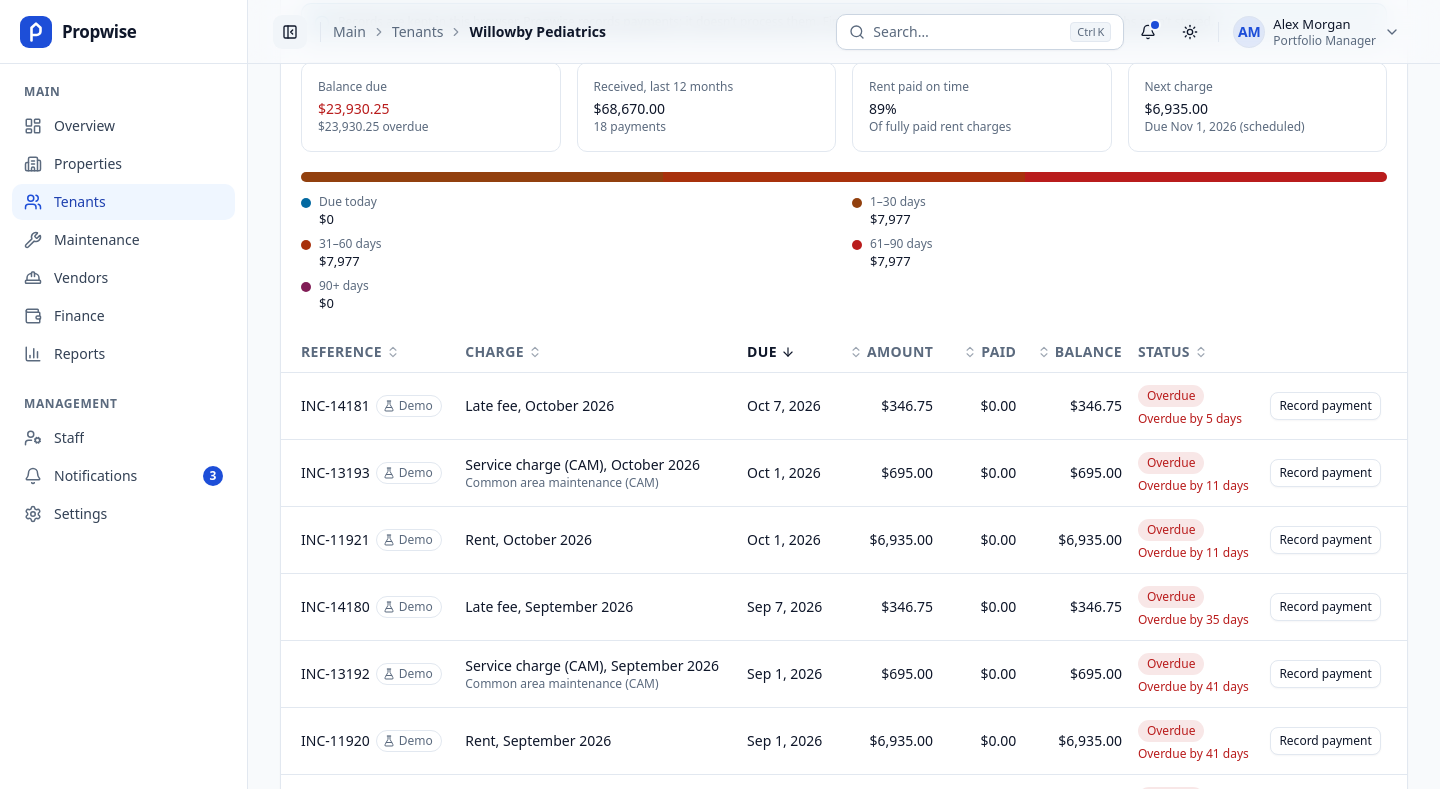
Scenario: tenant Payments tab › keeps the dialog open with the error when the save fails, and changes nothing
(page scrolled)
Step 1. Click the button with aria-label "Record payment for " → (1326, 406), box [1270,392,1381,420]
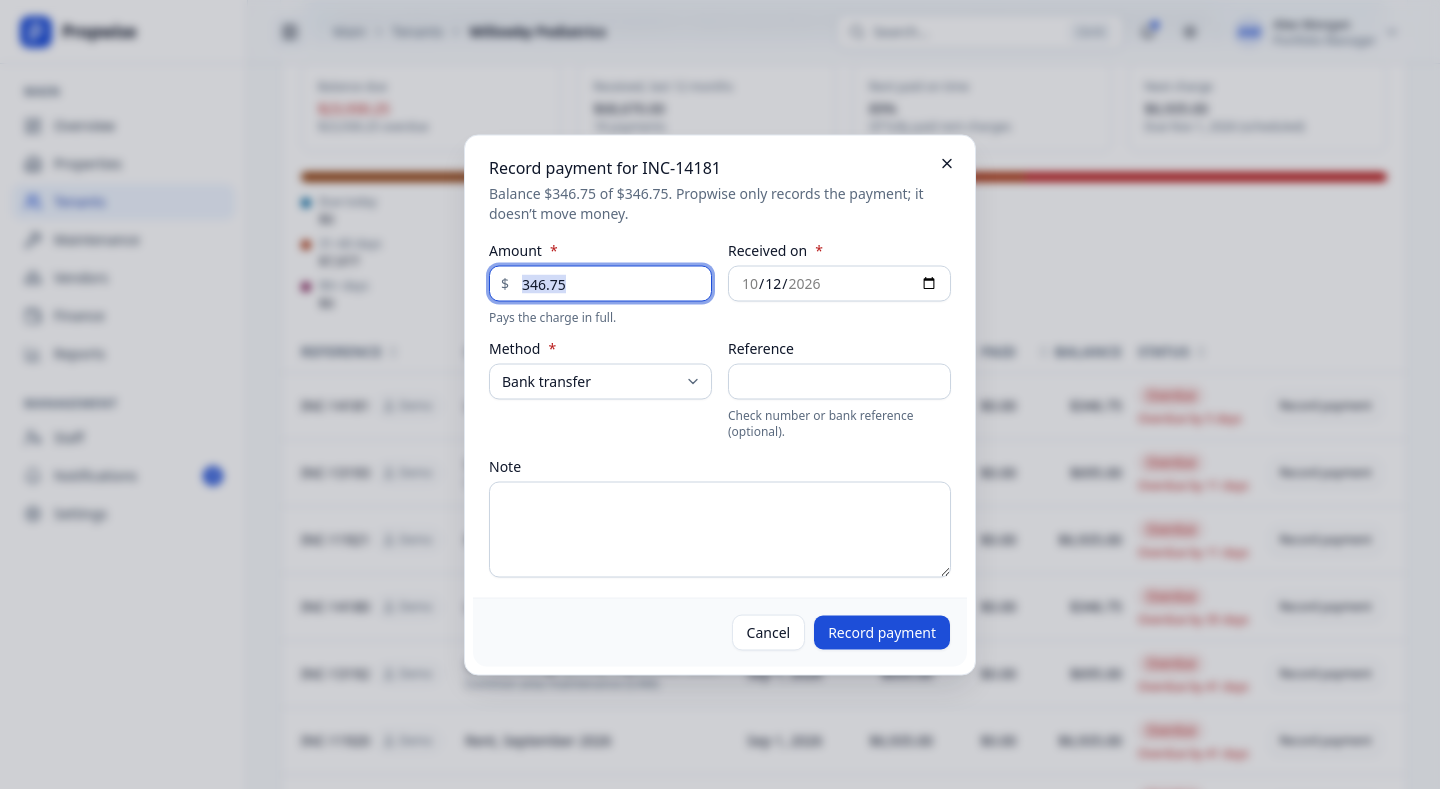
Step 2. Click the button "Record payment" → (882, 632), box [813,614,951,650]
(page scrolled)
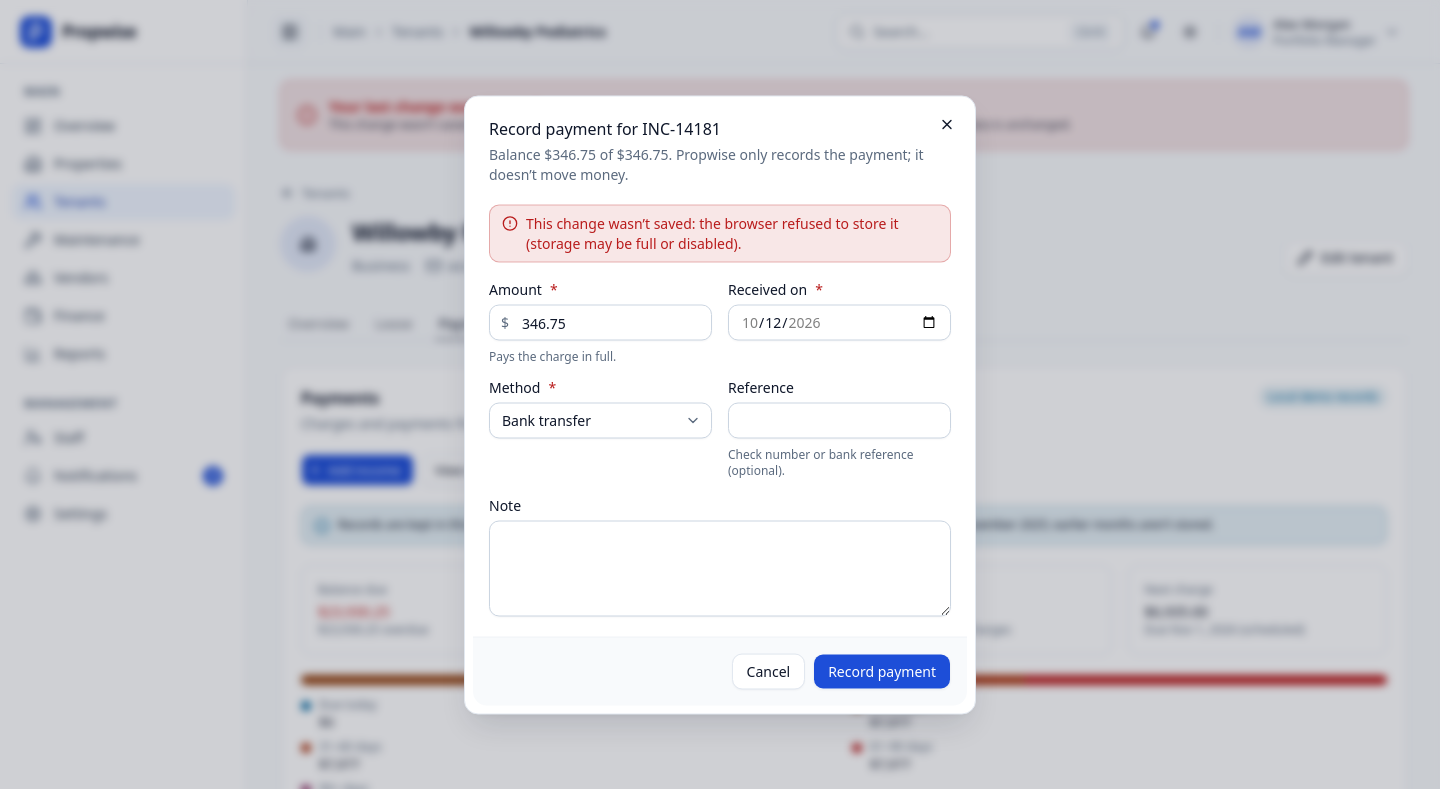
Check: the message shows "This change wasn’t saved", box [526,214,899,252]
Check: the element named "Saving status" shows "Your last change wasn’t saved", box [329,97,539,116]
